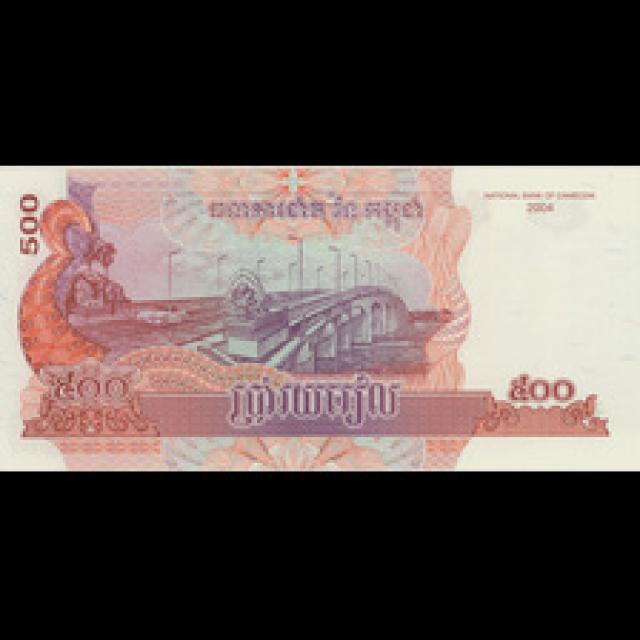banknote: (0, 167, 635, 469), (13, 185, 46, 264)
